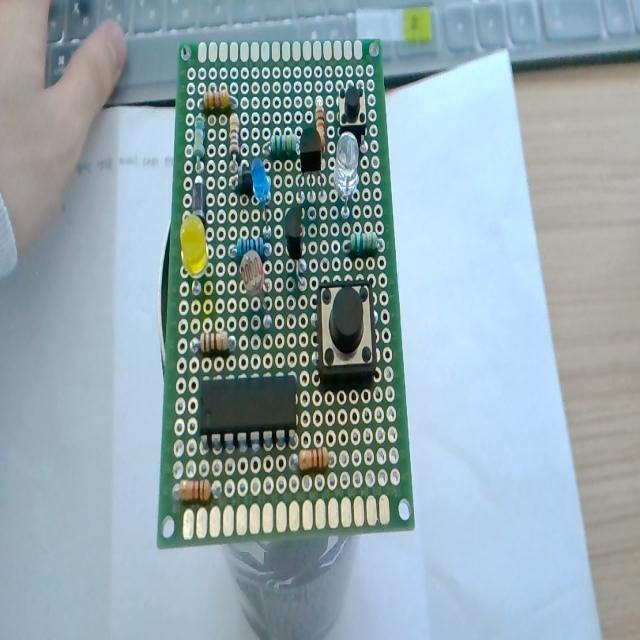IC: (189, 373, 305, 450)
cds: (237, 249, 272, 328)
diode: (189, 170, 210, 223)
led: (175, 213, 214, 296), (331, 132, 365, 218), (249, 157, 276, 232)
resistor: (287, 448, 340, 478), (169, 472, 219, 503), (228, 233, 278, 261), (340, 228, 390, 255), (189, 330, 237, 353), (198, 88, 240, 114), (192, 115, 209, 172), (227, 111, 242, 170), (262, 134, 300, 156), (314, 98, 327, 152)
switch: (314, 276, 385, 392), (335, 83, 370, 137)
transistor: (283, 204, 306, 290), (298, 126, 324, 202)
